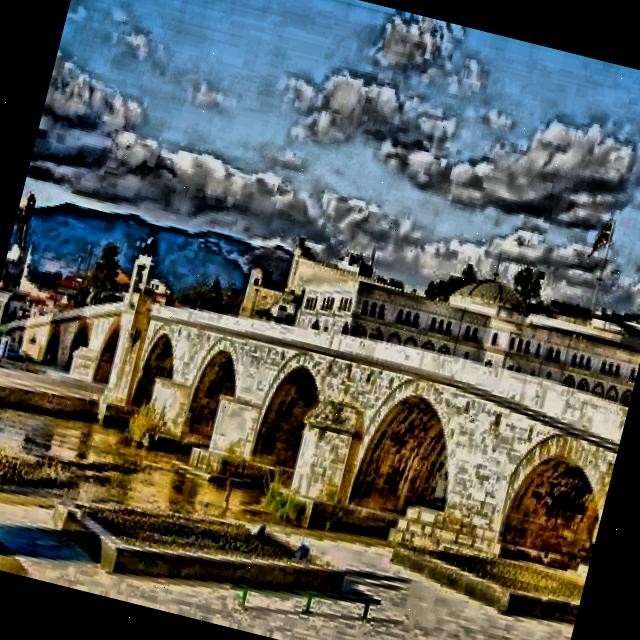Philip II of Macedonia: (0, 183, 46, 331)
stone bridge: (0, 220, 636, 584)
